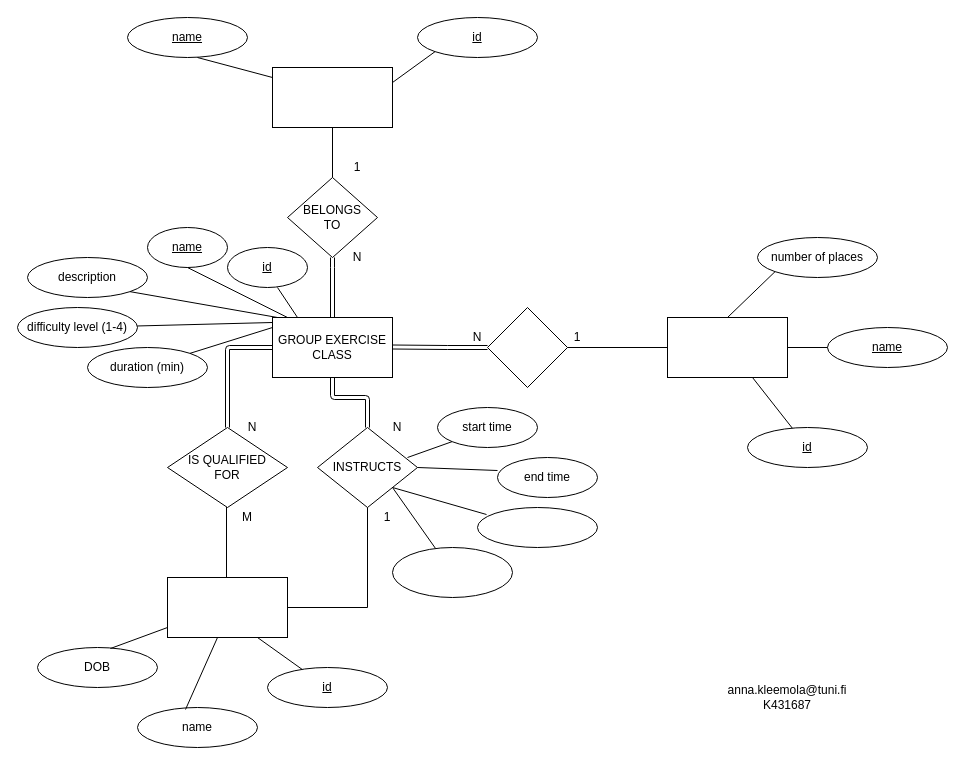
This 965x765 diagram has some shape labels left out. Here are the shapes that lost their labels. From the top down, the centre of each, then its label:
At point 332,97: "CATEGORY".
At point 527,347: "HELD IN".
At point 727,347: "HALL".
At point 537,527: "weekday".
At point 452,572: "max number of participants".
At point 227,607: "INSTRUCTOR".
